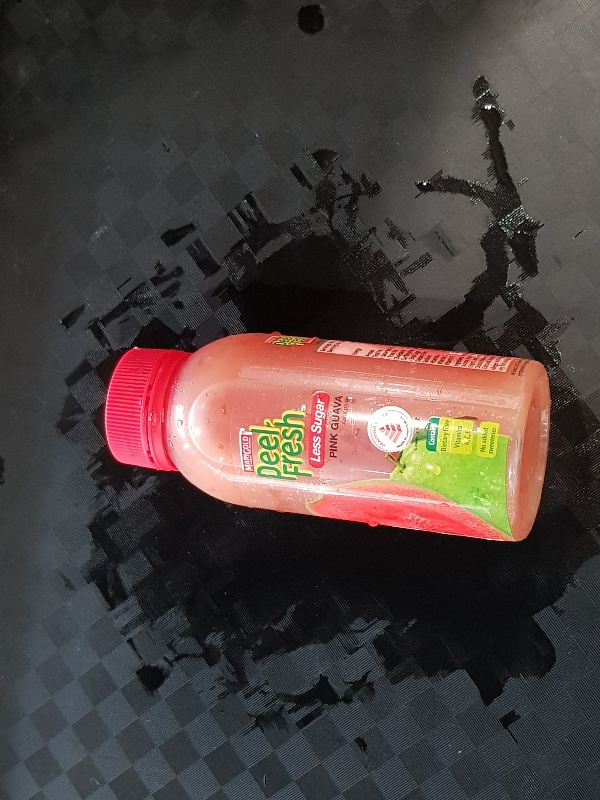Marigold Peel Fresh Pink Guava Juice Drink: (102, 329, 552, 544)
